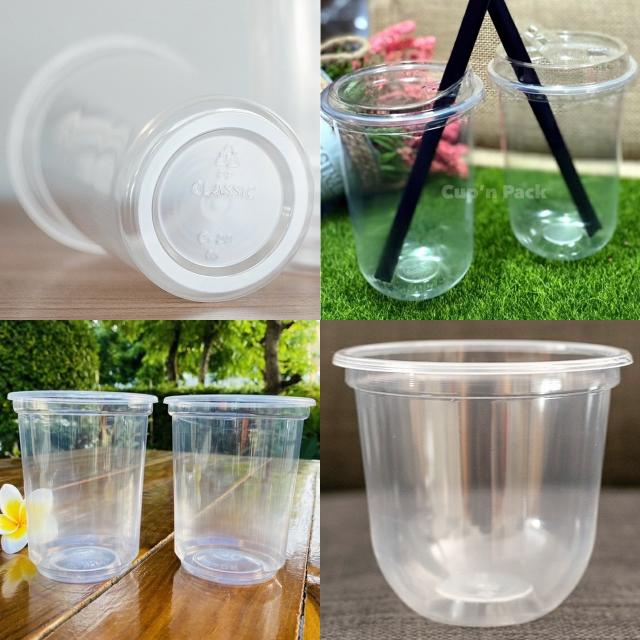Single-Use-Plastic: (332, 340, 632, 626), (8, 35, 314, 301), (321, 61, 484, 299), (488, 26, 638, 259), (165, 395, 315, 585), (9, 392, 156, 583)
